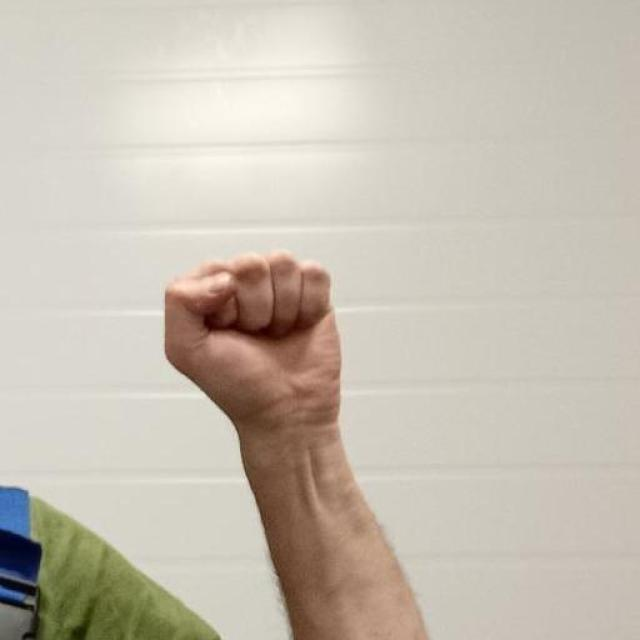hand: (162, 248, 344, 438)
